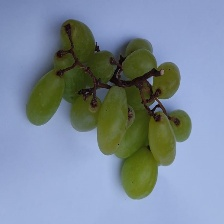grapes: (27, 4, 183, 194)
